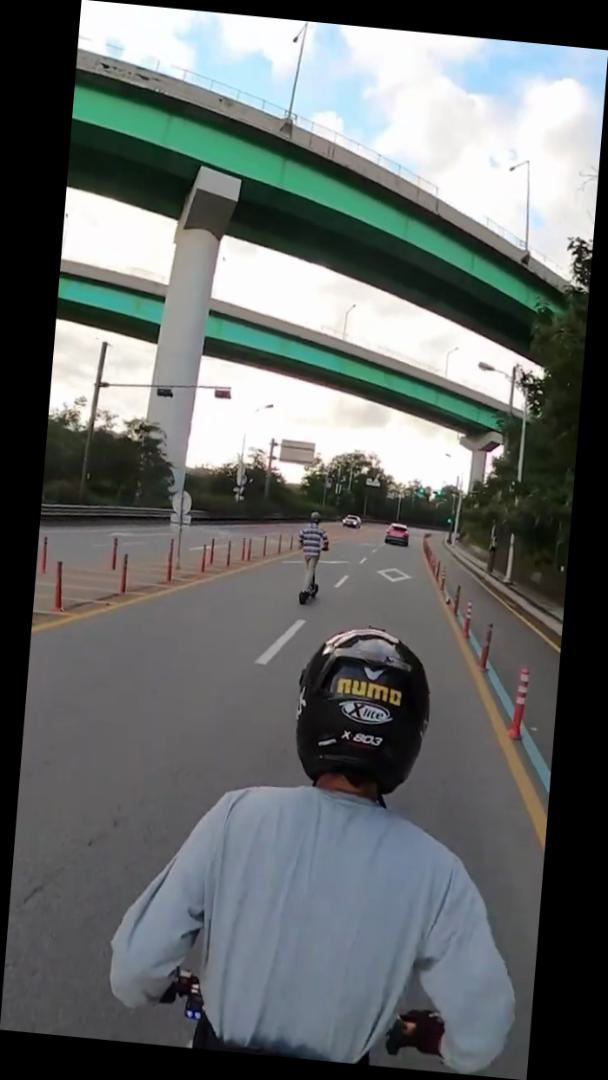helmet: (291, 509, 333, 609)
